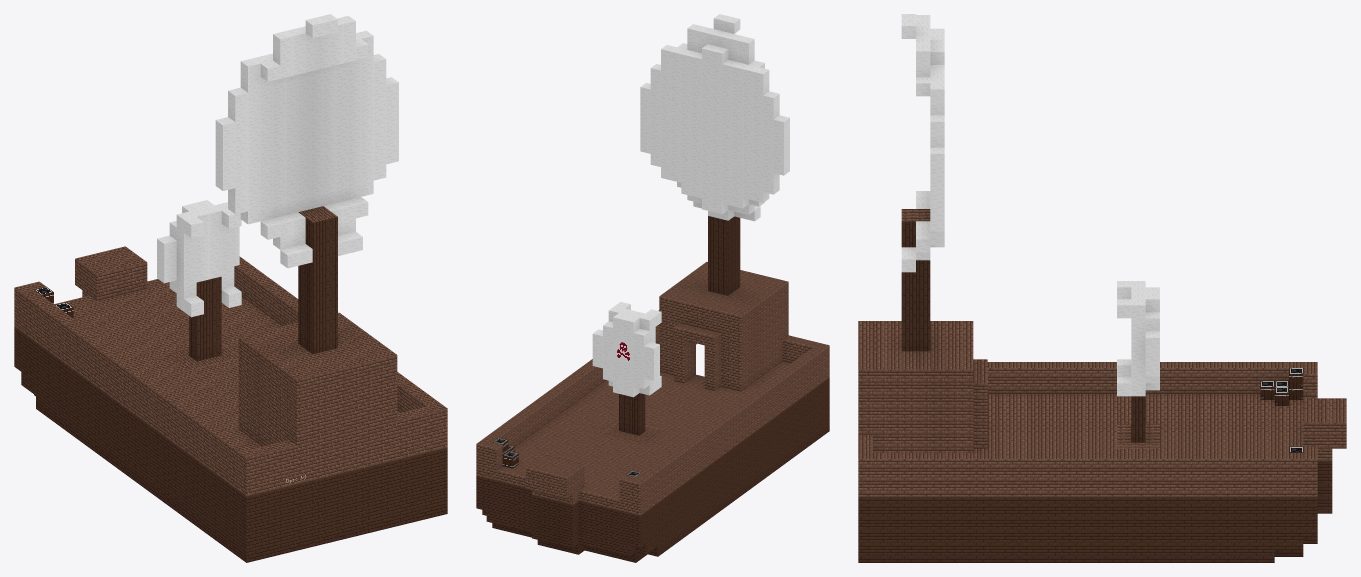
Rendered from boat.glb.
3 views of the same model, side by side, from view 1: azimuth 30°, elevation 25°; view 2: azimuth 150°, elevation 25°; view 3: azimuth 270°, elevation 25° (orthographic). The views are drawn at different scales.
Bounding box in the file's own units: 16 × 38 × 34.
Materials: 1 (1 with a texture image).
